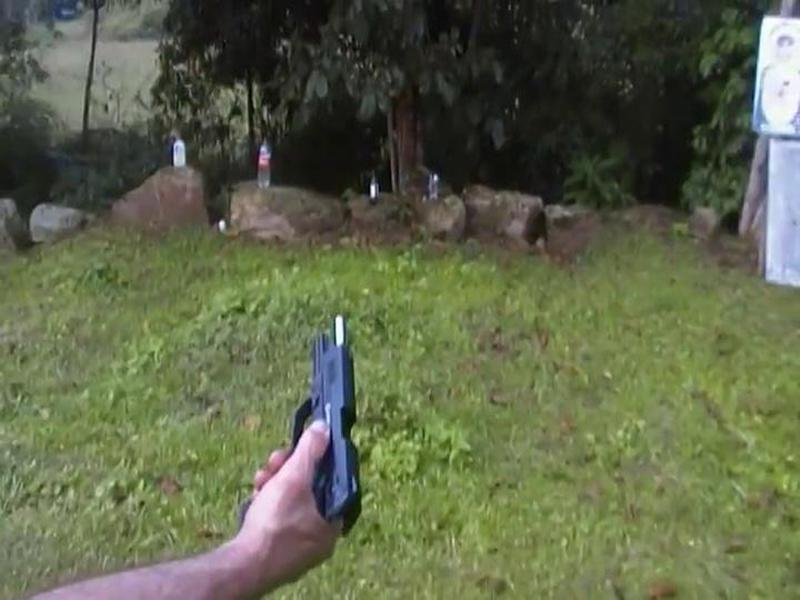Pistola: (235, 320, 378, 541)
